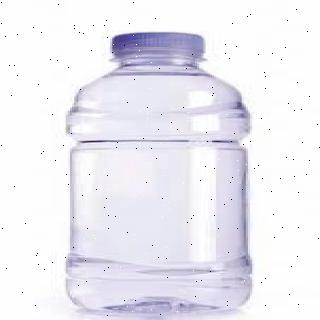Plastic-bottle: (61, 32, 258, 317)
